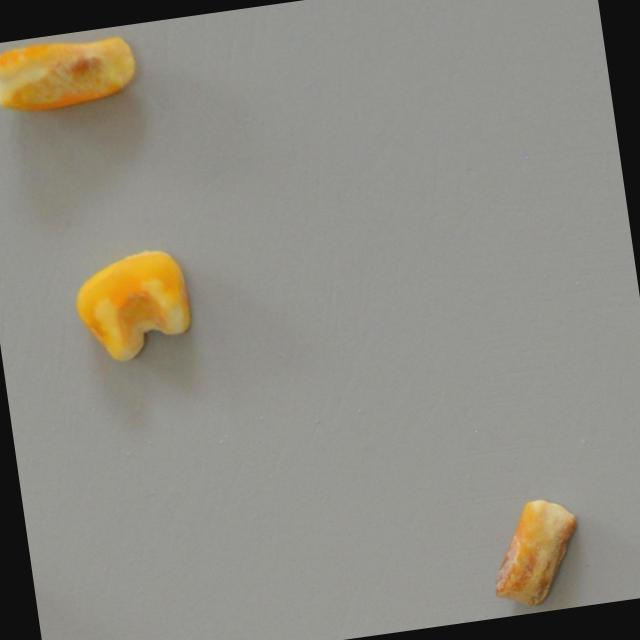dañado: (482, 494, 586, 612), (0, 31, 139, 117)
pelicula: (68, 245, 198, 367)
